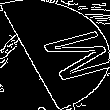M_W: (10, 24, 100, 86)
